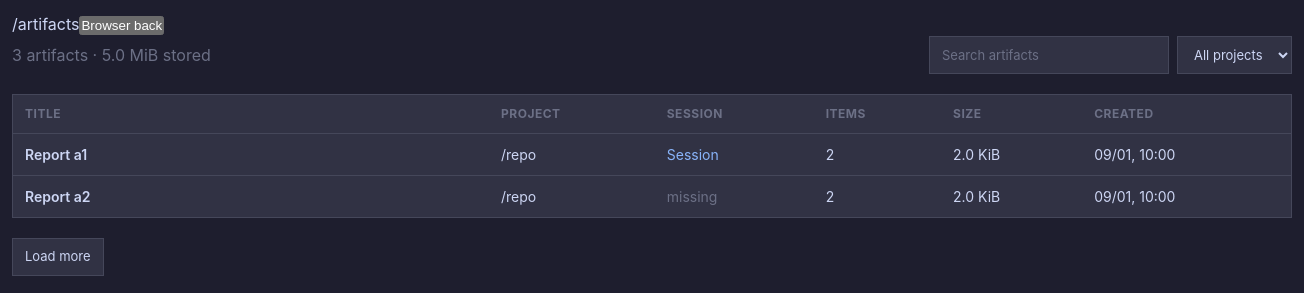
Test case: Artifacts page › lists artifacts with session state, sizes and total storage, and pages with Load more
Check: the text with test id "artifact-stats" reads "3 artifacts · 5.0 MiB stored", box [12, 45, 211, 65]
Check: the text "2.0 KiB" is shown 2 times, box [941, 134, 1082, 176]; [941, 176, 1082, 217]
Click the button "Load more" at (58, 257), box [12, 238, 104, 276]
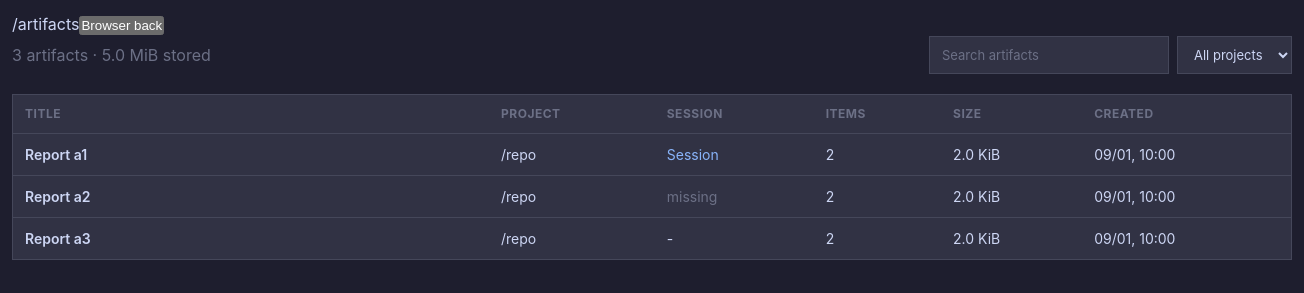
Check: the link "Report a3" is shown, box [25, 230, 91, 247]
Check: the number of rows with test id "artifact-row" is 3, box [13, 134, 1291, 176]; [13, 176, 1291, 218]; [13, 218, 1291, 259]
Check: the button "Load more" is gone
